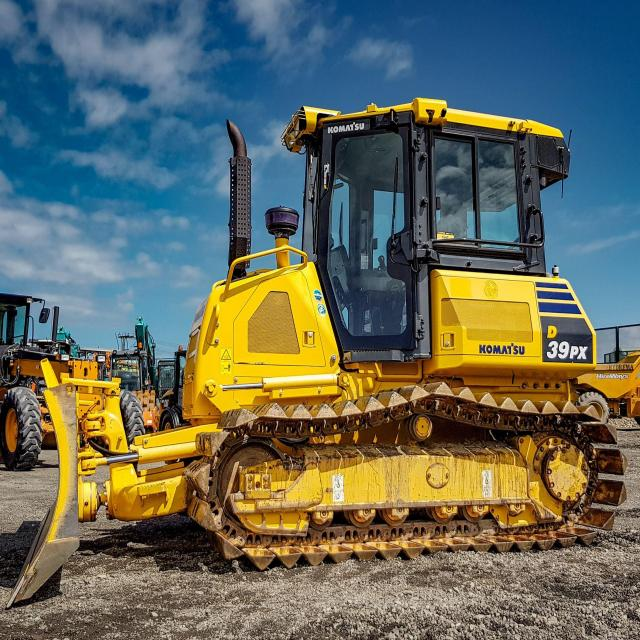Bulldozer: (12, 61, 629, 616)
